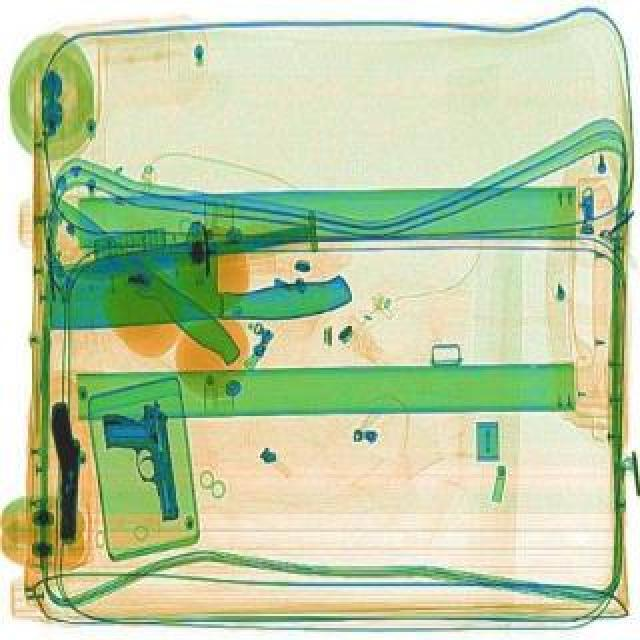gun: (98, 398, 182, 522), (48, 400, 88, 540)
knife: (32, 188, 248, 368), (40, 230, 352, 340), (66, 218, 314, 282)
